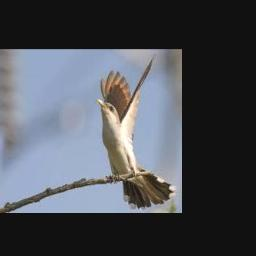Cuckoo: (95, 56, 176, 208)
